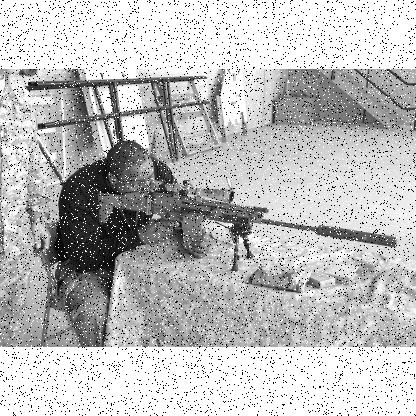gun: (96, 176, 394, 268)
